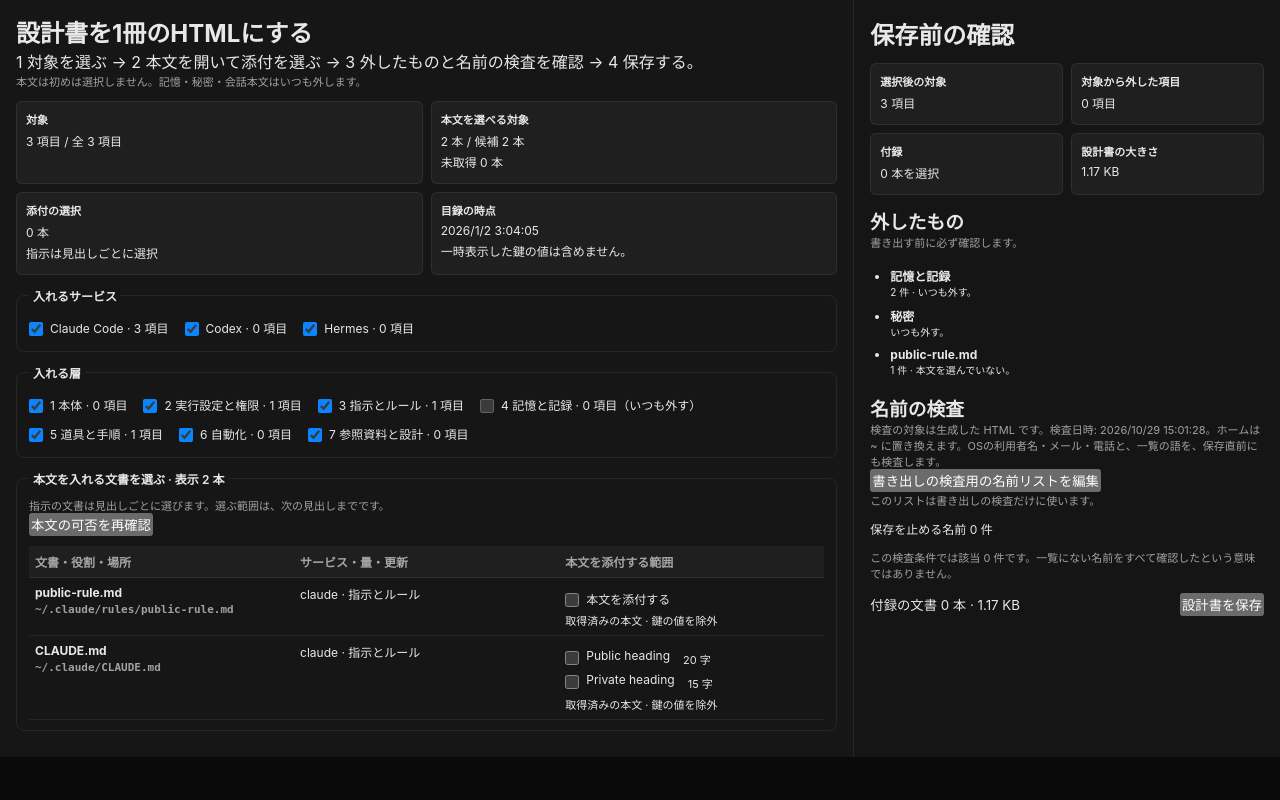
agent design export › reports a save failure while preserving the current selection
Click the checkbox labelled "本文を添付する". click: (572,600)
box: [565, 593, 579, 607]
Wait 250 ms
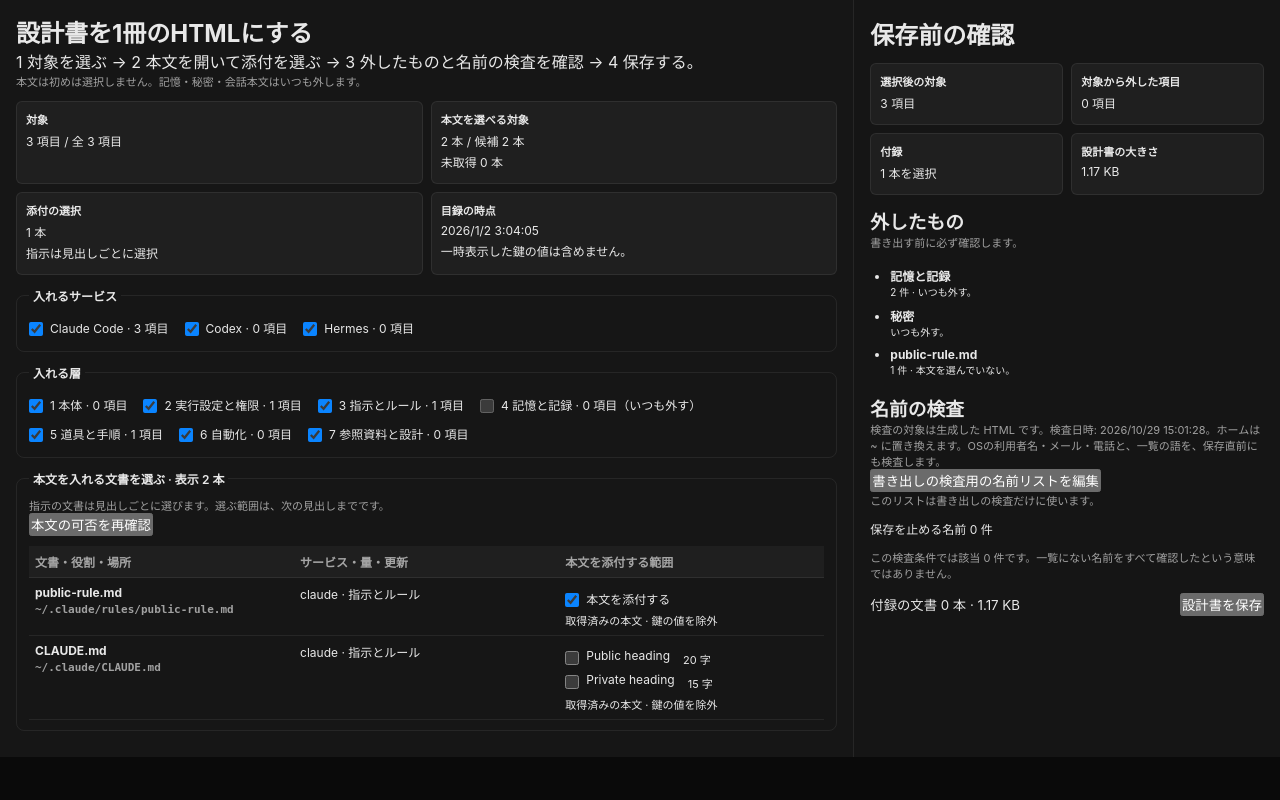
Click the button "設計書を保存". click: (1222,604)
box: [1180, 593, 1264, 616]
Wait 250 ms
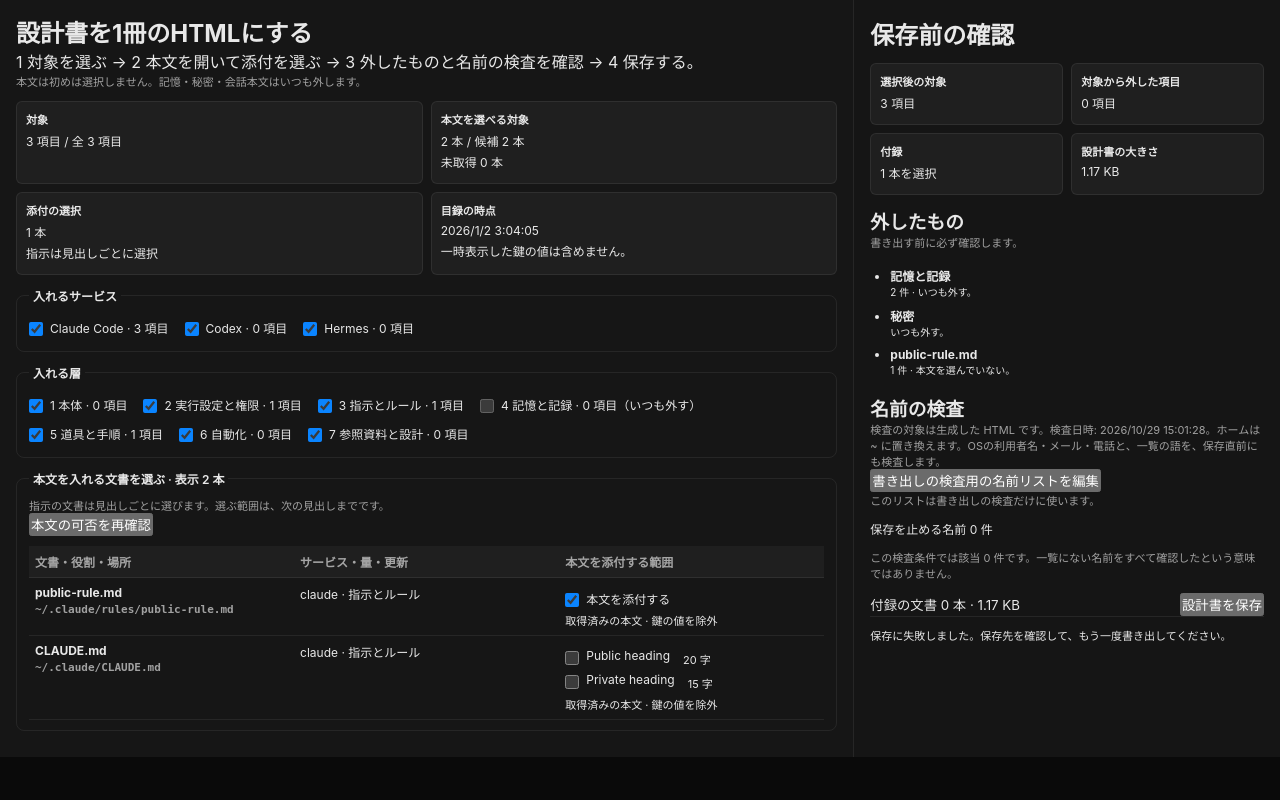
Result: the checkbox labelled "本文を添付する" is checked at [565, 593, 579, 607]
Result: the text "保存に失敗しました" is shown at [870, 629, 1231, 643]
